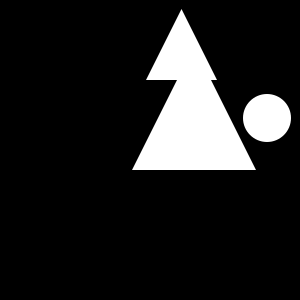rectangle: (243, 94, 291, 142)
triangle: (132, 46, 256, 170), (146, 9, 217, 80)
